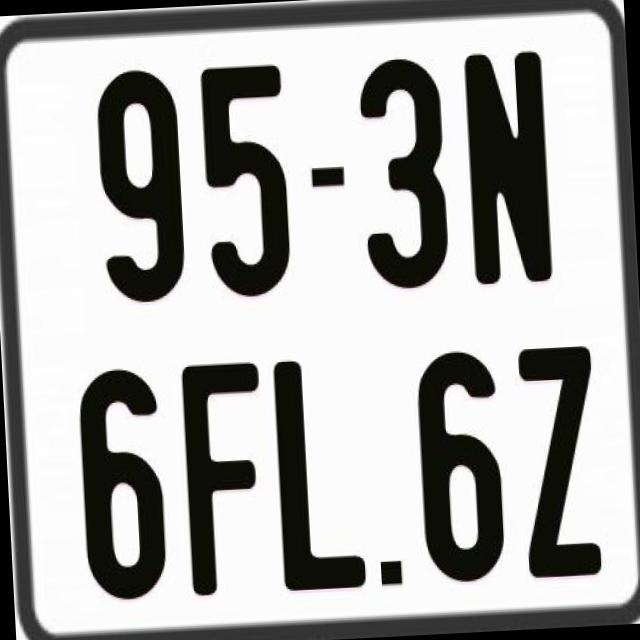3: (358, 54, 458, 290)
5: (196, 62, 292, 300)
6: (412, 348, 508, 590), (75, 368, 166, 610)
9: (94, 64, 192, 304)
F: (179, 358, 270, 596)
L: (268, 357, 370, 596)
N: (462, 50, 554, 293)
Z: (518, 341, 608, 583)
